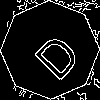D: (25, 25, 83, 83)
